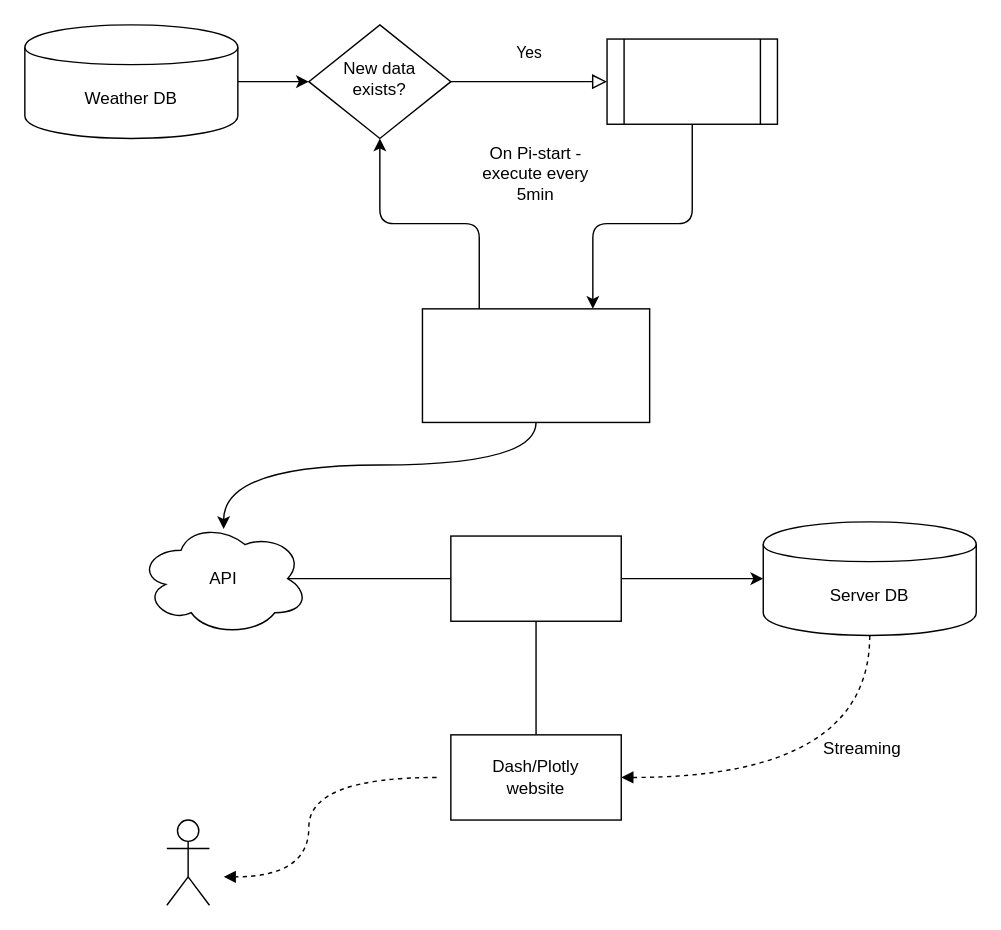
The diagram is 1001 pixels wide and 930 high, and some of its shapes have lost their labels. Each missing label, with the centre of its shape:
Filter out new data: the point at 691,81
Raspberry Pi: the point at 535,364
Server: the point at 535,578
